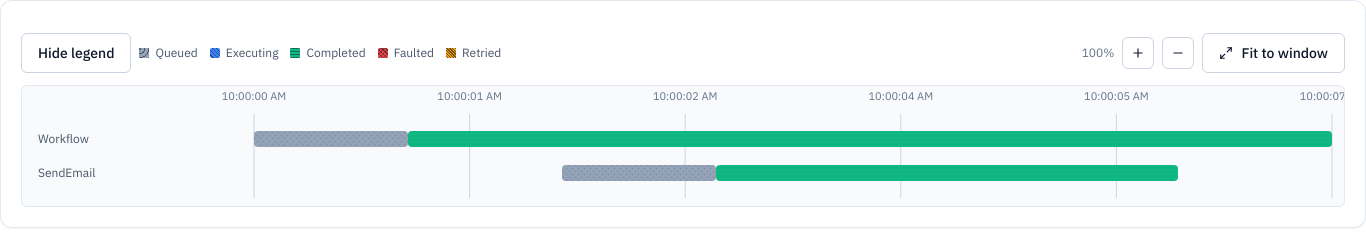
GanttChart › supports zoom controls via buttons and keyboard reset
The image size is (1366, 245).
Expected: the text "100%" is shown, [1082,45,1114,61]
Click the button named "Zoom in timeline" at (1138, 53), box [1122,37,1154,69]
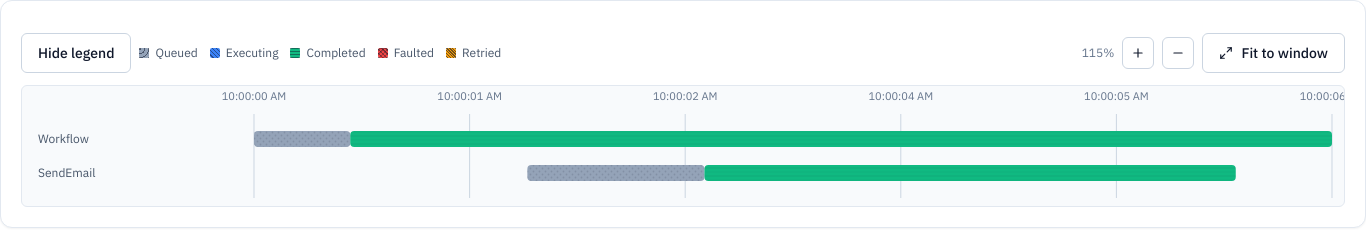
Expected: the text "115%" is shown, [1082,45,1114,61]
Press 0 in the element named "Workflow timeline chart", box [21,85,1345,207]
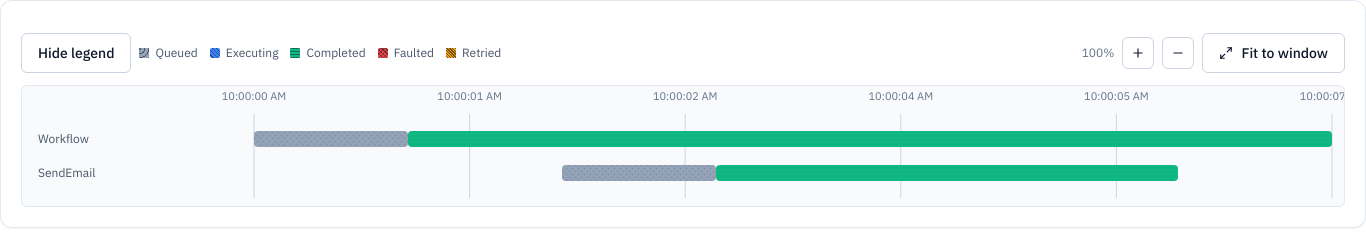
Expected: the text "100%" is shown, [1082,45,1114,61]
Press + in the element named "Workflow timeline chart", box [21,85,1345,207]
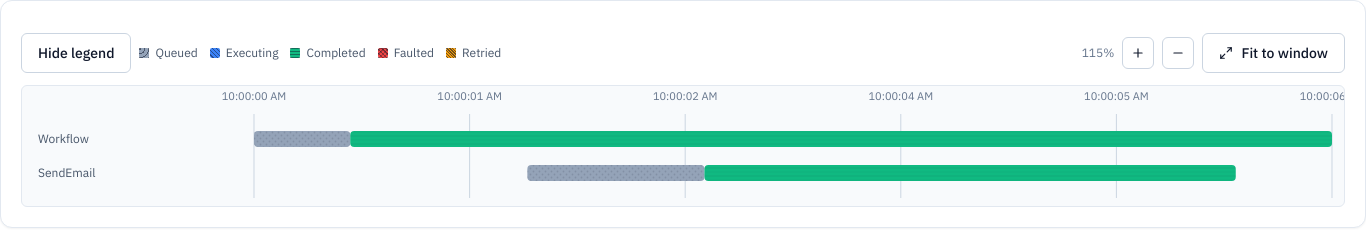
Expected: the text "115%" is shown, [1082,45,1114,61]
Press - in the element named "Workflow timeline chart", box [21,85,1345,207]
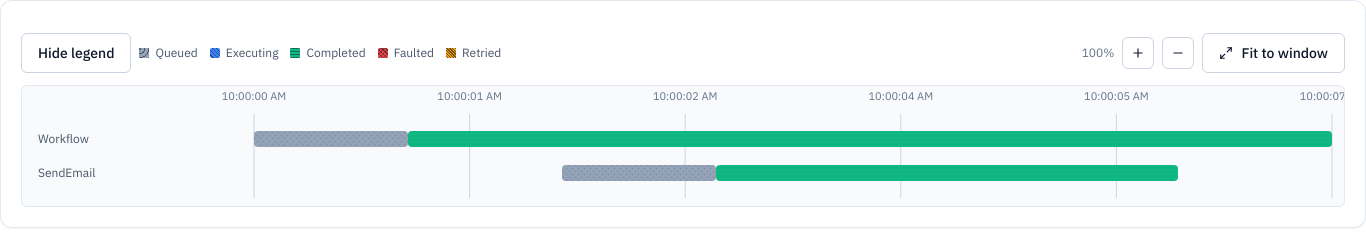
Expected: the text "100%" is shown, [1082,45,1114,61]
